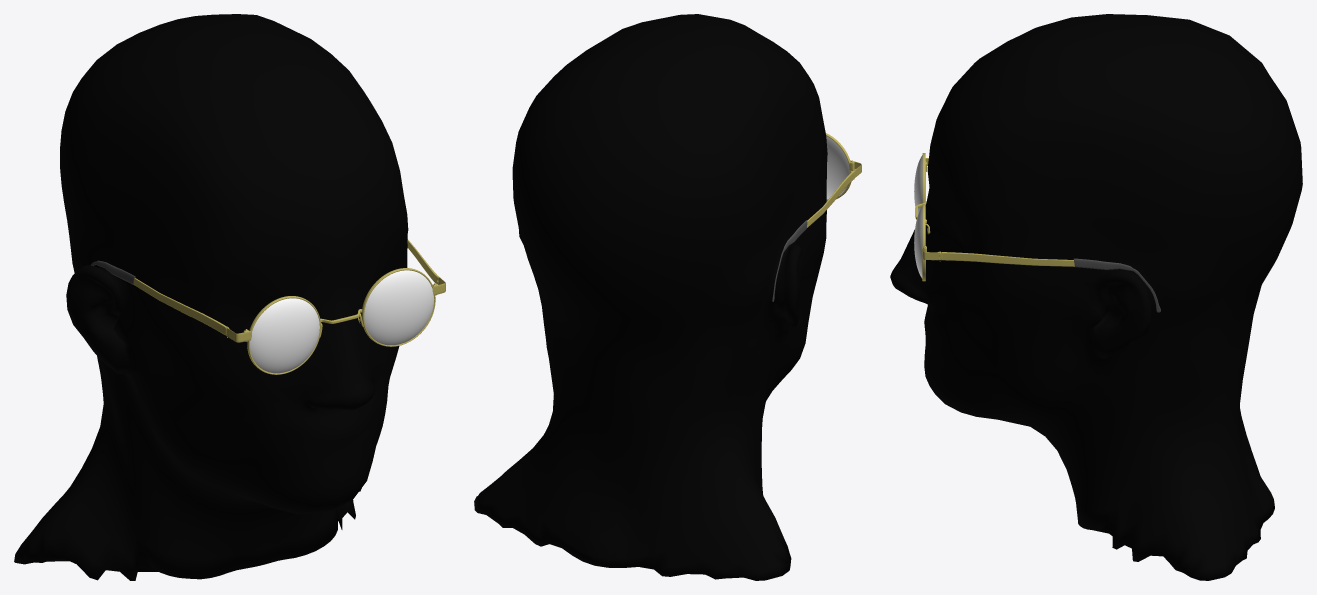
File: FloatingHead.glb
3 views of the same model, side by side, from view 1: azimuth 30°, elevation 25°; view 2: azimuth 150°, elevation 25°; view 3: azimuth 270°, elevation 25° (orthographic). The views are drawn at different scales.
Parts seen in each view (by area): view 1: Head, Glasses; view 2: Head, Glasses; view 3: Head, Glasses.
Boxes of the visible parts, x1,y1,x2,y2 form: Head: (14,14,408,580); Glasses: (90,239,445,374); Head: (474,14,827,580); Glasses: (772,133,861,301); Head: (890,14,1302,580); Glasses: (914,153,1160,312).
Bounding box in the file's own units: 0.237 × 0.3407 × 0.2658.
